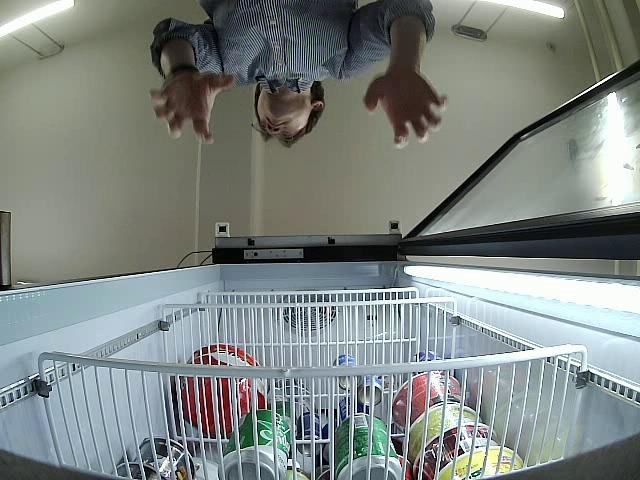00_hand: (149, 70, 234, 143), (363, 78, 445, 143)
